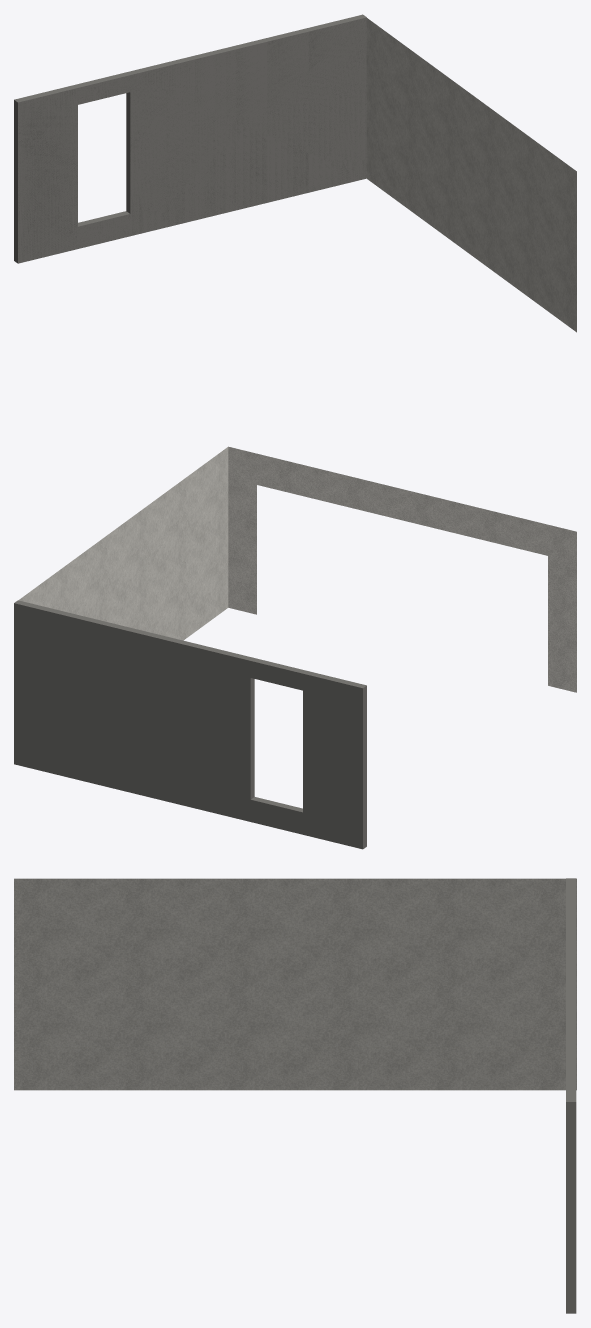
Rendered from garage_wall_wash.glb.
3 renders of one model, top to bottom at view 1: azimuth 30°, elevation 25°; view 2: azimuth 150°, elevation 25°; view 3: azimuth 270°, elevation 25°, orthographic. The views are drawn at different scales.
Visible parts, largest first — view 1: root; view 2: root; view 3: root.
Part boxes in pixels (<box>): root: <box>14,14,576,332</box>; root: <box>14,446,576,849</box>; root: <box>14,878,576,1313</box>.
Size of the model in its own units: 6.22 by 2.74 by 6.61.
5 materials, 4 textured.
